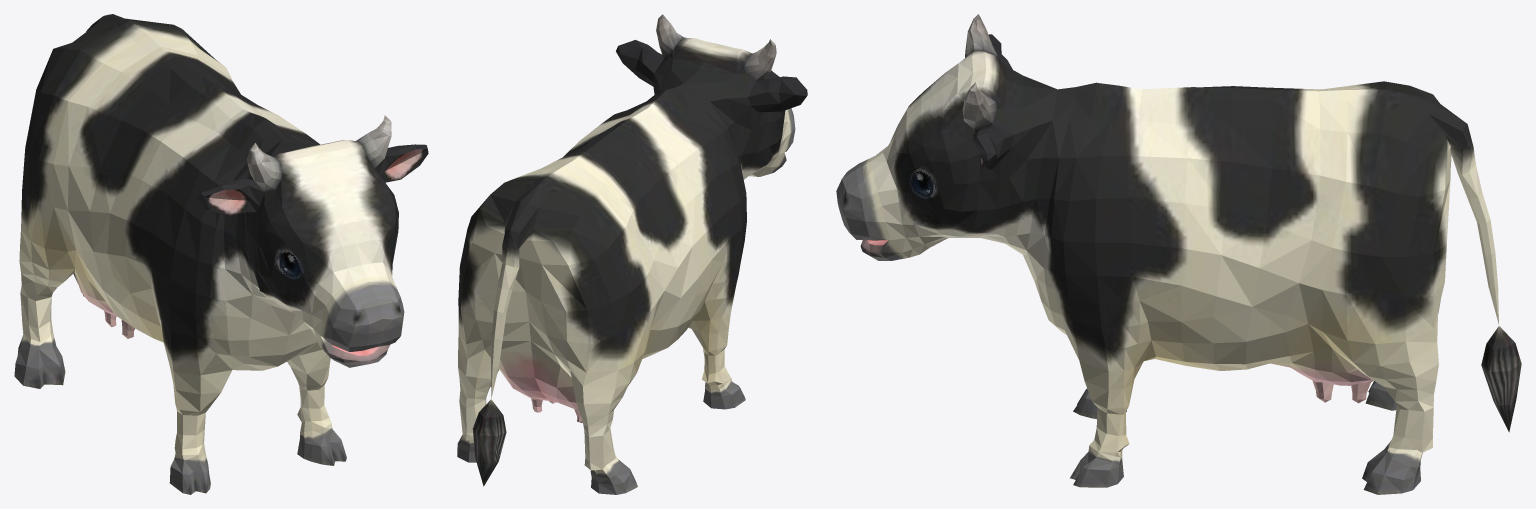
The model's file is dcow01.glb.
3 views of the same model, side by side, from view 1: azimuth 30°, elevation 25°; view 2: azimuth 150°, elevation 25°; view 3: azimuth 270°, elevation 25° (orthographic). The views are drawn at different scales.
Parts seen in each view (by area): view 1: BEU9FDFGSRQ3OO82FMK7AYS8H; view 2: BEU9FDFGSRQ3OO82FMK7AYS8H; view 3: BEU9FDFGSRQ3OO82FMK7AYS8H.
Boxes of the visible parts, box(x1,y1,x2,y2) form: BEU9FDFGSRQ3OO82FMK7AYS8H: box(14, 14, 428, 494); BEU9FDFGSRQ3OO82FMK7AYS8H: box(457, 14, 807, 494); BEU9FDFGSRQ3OO82FMK7AYS8H: box(836, 14, 1521, 494).
Bounding box in the file's own units: 1 × 1.62 × 2.5.
Materials: 3 (3 with a texture image).
